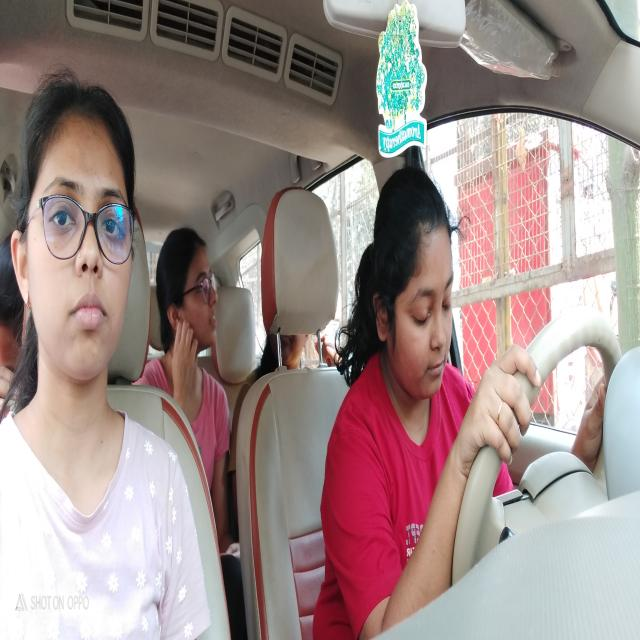drowsy: (364, 158, 466, 408)
person: (13, 47, 140, 418), (157, 222, 224, 374), (264, 324, 303, 371)
